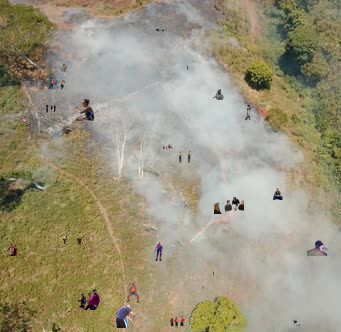Human: (214, 197, 244, 214), (245, 105, 279, 120), (72, 99, 95, 121), (307, 240, 338, 256), (77, 289, 100, 310), (116, 304, 135, 328), (147, 242, 163, 261), (126, 283, 140, 303), (170, 316, 185, 329), (62, 236, 83, 245), (49, 79, 65, 90), (179, 151, 191, 163), (7, 243, 18, 256), (155, 27, 170, 36), (212, 89, 224, 100), (273, 188, 283, 200), (46, 103, 56, 113), (163, 144, 177, 150), (59, 64, 68, 72), (293, 320, 300, 326), (21, 118, 27, 123), (64, 230, 69, 235), (310, 49, 313, 55), (66, 310, 70, 314), (202, 286, 204, 289), (213, 271, 214, 275), (187, 66, 188, 70), (303, 319, 304, 322)
